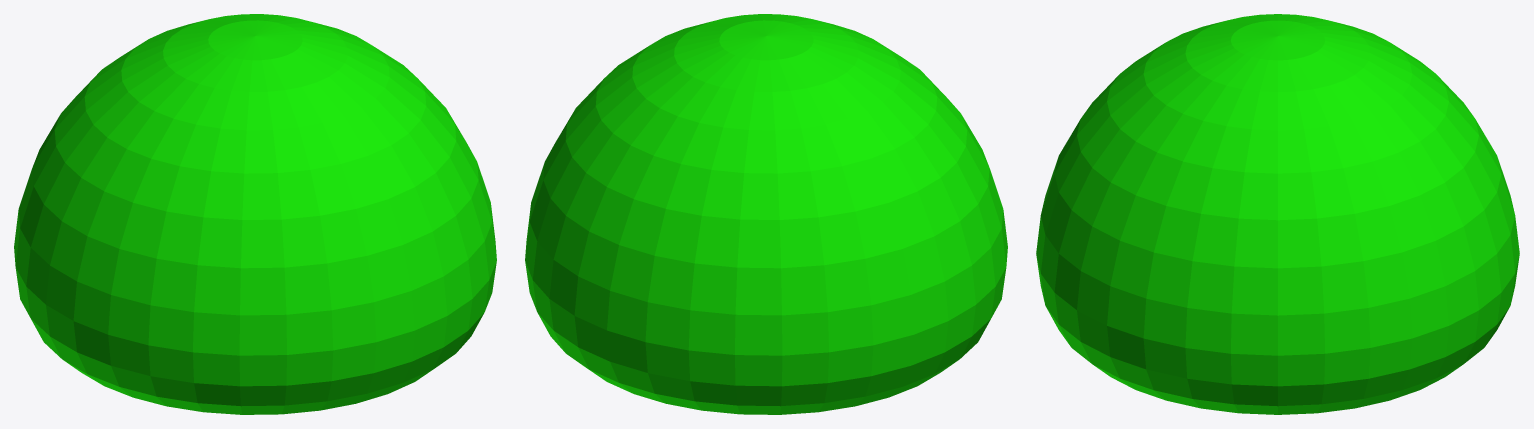
File: Slime2Flat.fbx
3 renders of one model, left to right at view 1: azimuth 30°, elevation 25°; view 2: azimuth 150°, elevation 25°; view 3: azimuth 270°, elevation 25°, orthographic.
Parts seen in each view (by area): view 1: Sphere.001; view 2: Sphere.001; view 3: Sphere.001.
Boxes of the visible parts, x1,y1,x2,y2 form: Sphere.001: (14, 14, 496, 414); Sphere.001: (525, 14, 1007, 414); Sphere.001: (1036, 14, 1519, 414).
Size of the model in its own units: 2 by 1.42 by 2.
